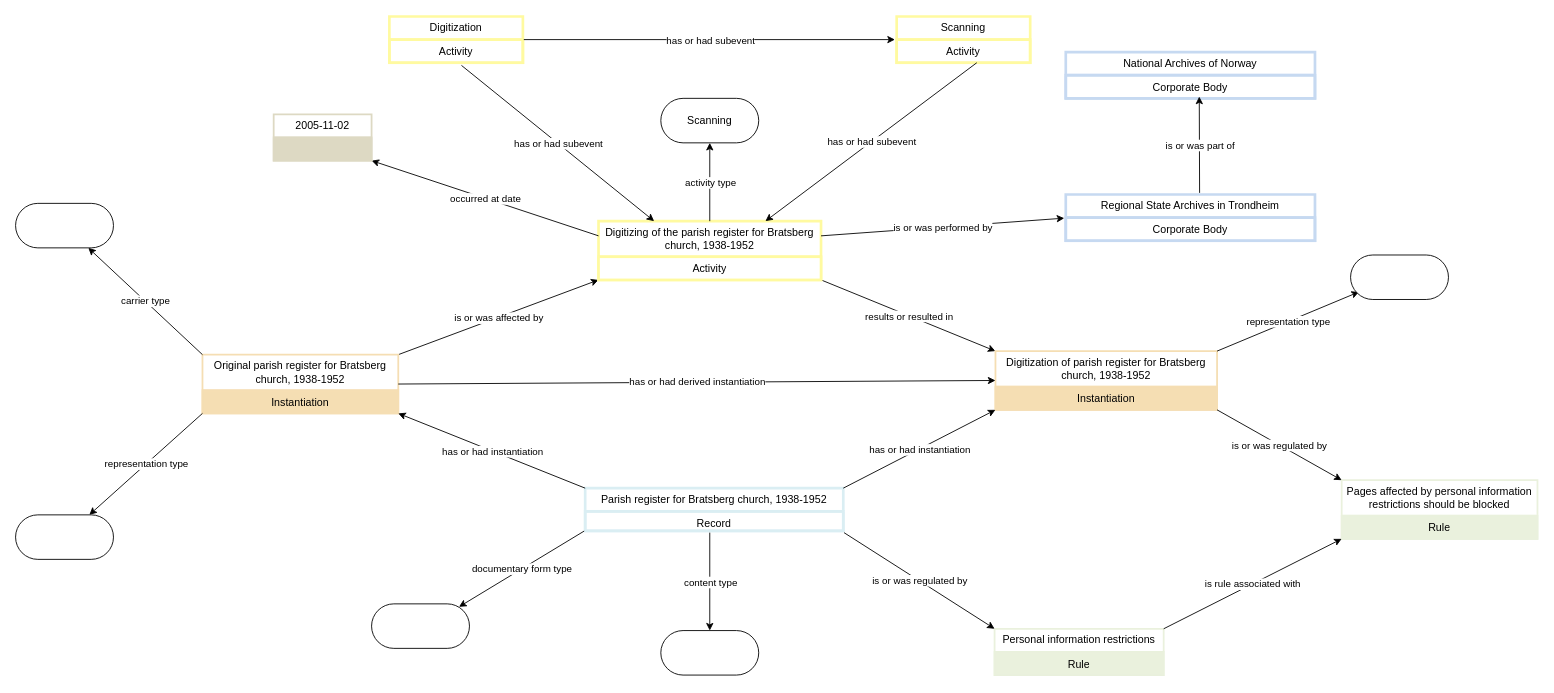
This 1554x693 diagram has some shape labels left out. The shapes that lost their labels are listed below. From the top down, each one's centre as x and y in pixels, then its label:
[322,148]: Date
[64,225]: Paper, hard-bound book
[1399,276]: Digital textual
[64,536]: Analogue textual
[420,625]: Parish register
[709,652]: Structured (tabular) text
